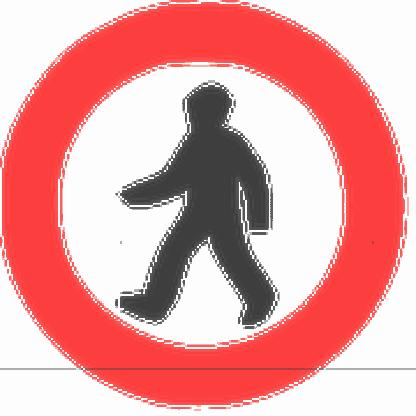Pedestrian Crossing: (22, 20, 396, 386)
